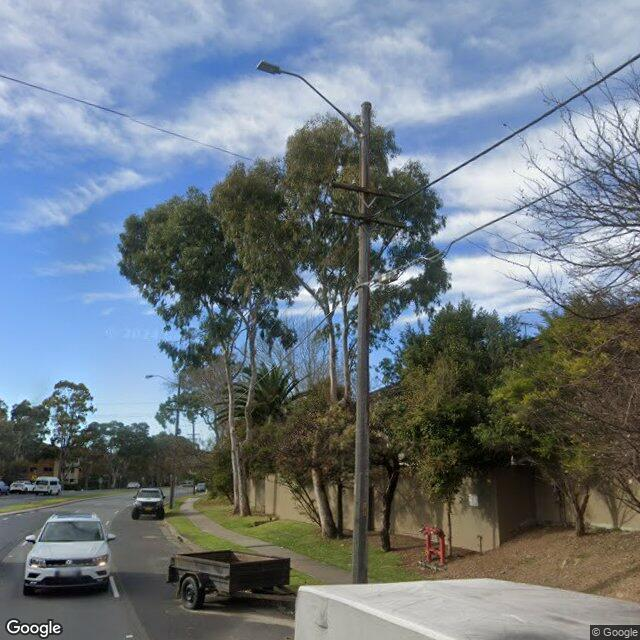crossarm: (329, 207, 406, 229), (328, 179, 407, 200), (165, 407, 186, 412)
streetlight: (256, 61, 364, 138), (144, 373, 180, 387)
timber-pole: (351, 101, 372, 585), (169, 386, 181, 509)
